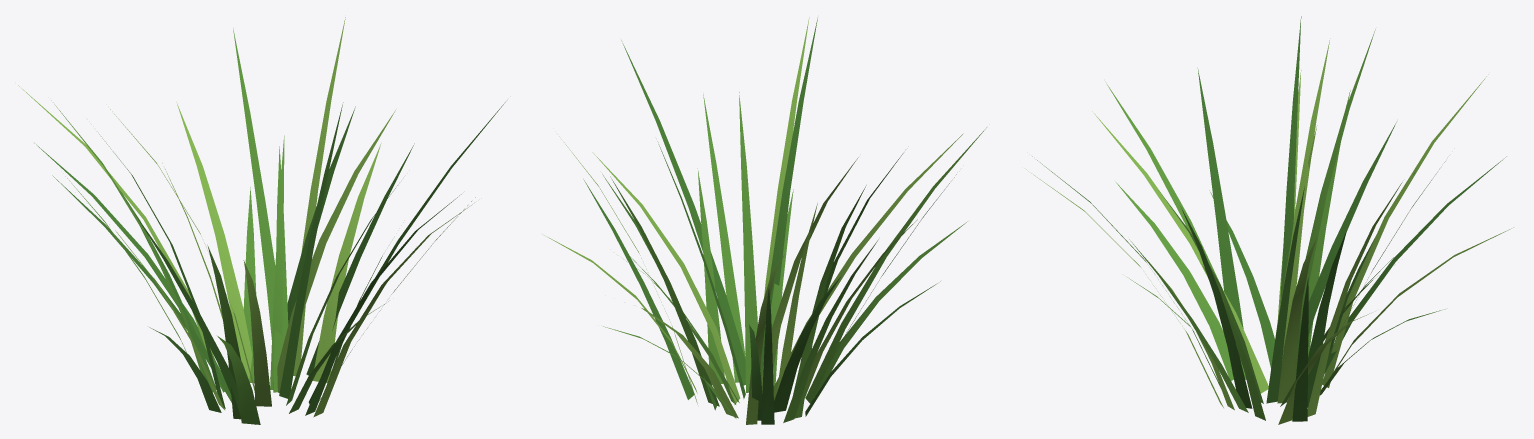
File: grass-tuft-a.glb
3 renders of one model, left to right at view 1: azimuth 30°, elevation 25°; view 2: azimuth 150°, elevation 25°; view 3: azimuth 270°, elevation 25°, orthographic. The views are drawn at different scales.
Visible parts, largest first — view 1: grass-tuft-a; view 2: grass-tuft-a; view 3: grass-tuft-a.
Boxes of the visible parts, <box> form: grass-tuft-a: <box>18,17,505,424</box>; grass-tuft-a: <box>542,17,986,424</box>; grass-tuft-a: <box>1026,16,1513,424</box>.
Bounding box in the file's own units: 0.3182 × 0.254 × 0.3816.
